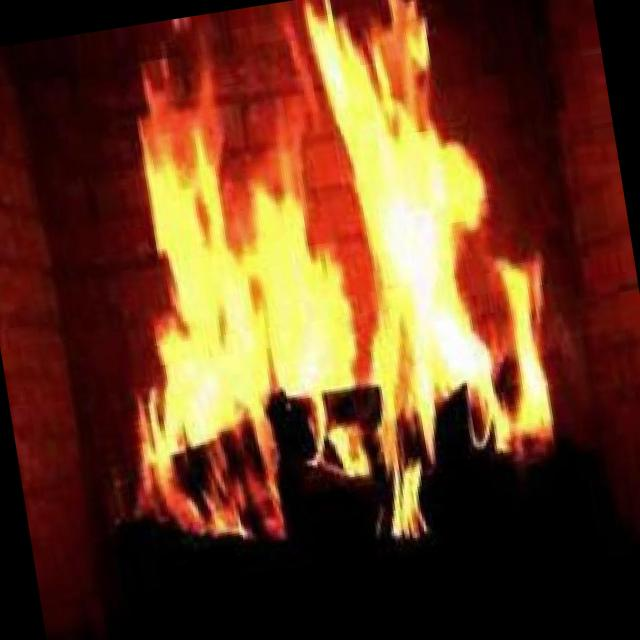Fire: (45, 0, 581, 593)
